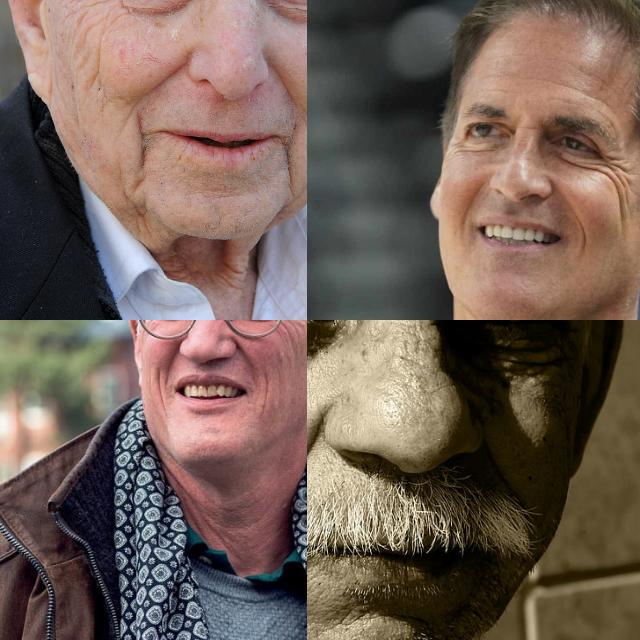chin: (372, 605, 426, 631)
crows_feet: (602, 153, 628, 190), (87, 0, 122, 11), (449, 138, 465, 156), (276, 320, 298, 329)
forehead: (559, 82, 609, 106)
gummy_smile: (130, 53, 192, 101), (269, 64, 301, 110), (307, 414, 323, 486), (456, 184, 479, 226), (159, 337, 183, 375), (574, 215, 590, 252), (232, 333, 250, 362)
masseter: (79, 22, 109, 98), (143, 368, 171, 408), (258, 370, 274, 420), (614, 199, 632, 235)
sad_smile: (124, 112, 158, 170), (276, 130, 300, 194)
